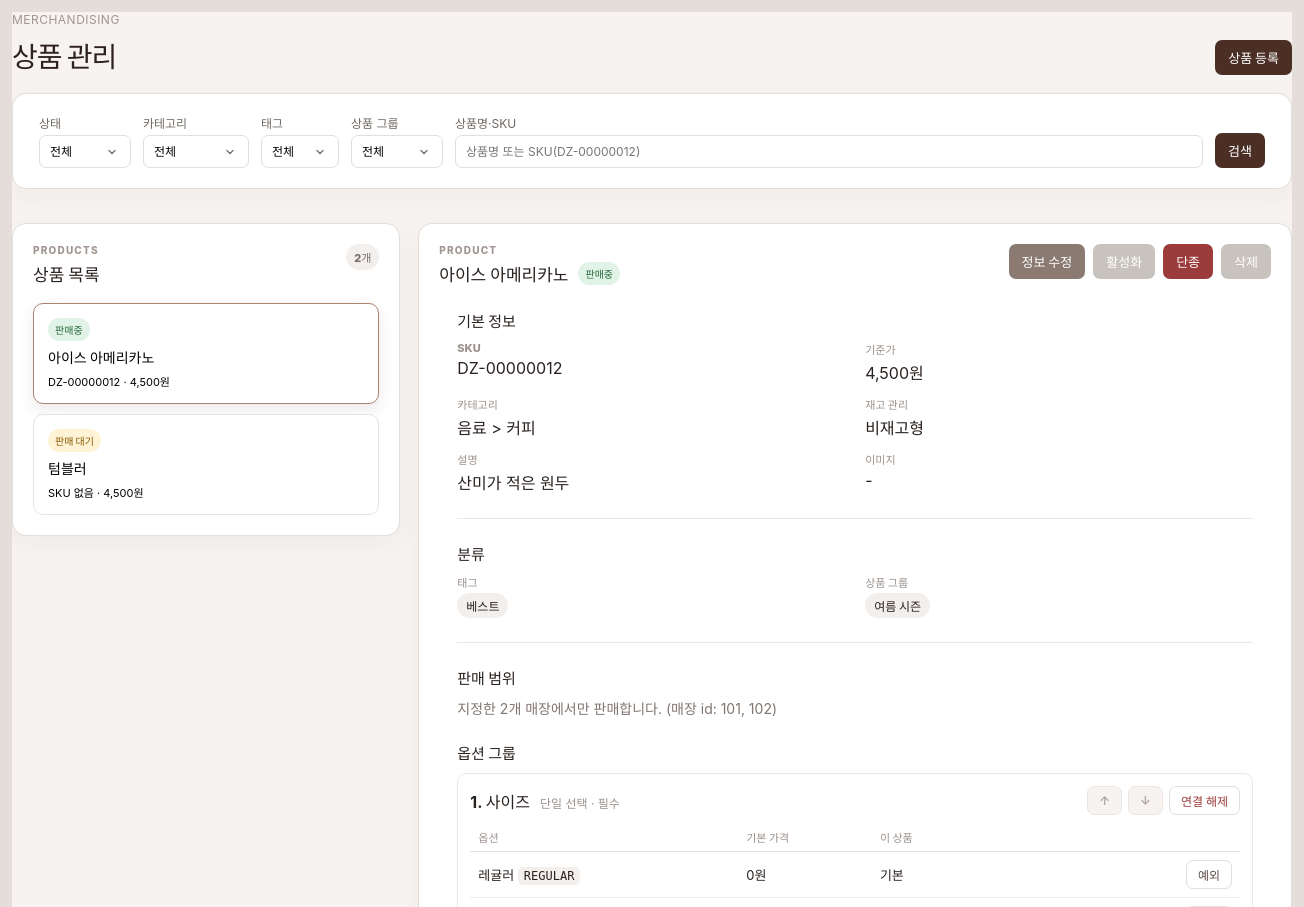
Test case: ProductsPage › 다른 상품을 선택하면 상세가 바뀌고 SKU·분류가 없는 상품도 보여준다
This screenshot has width=1304, height=907.
Click the button "판매 대기 텀블러 SKU 없음 · 4,500원": (74, 440) [33, 414, 379, 515]
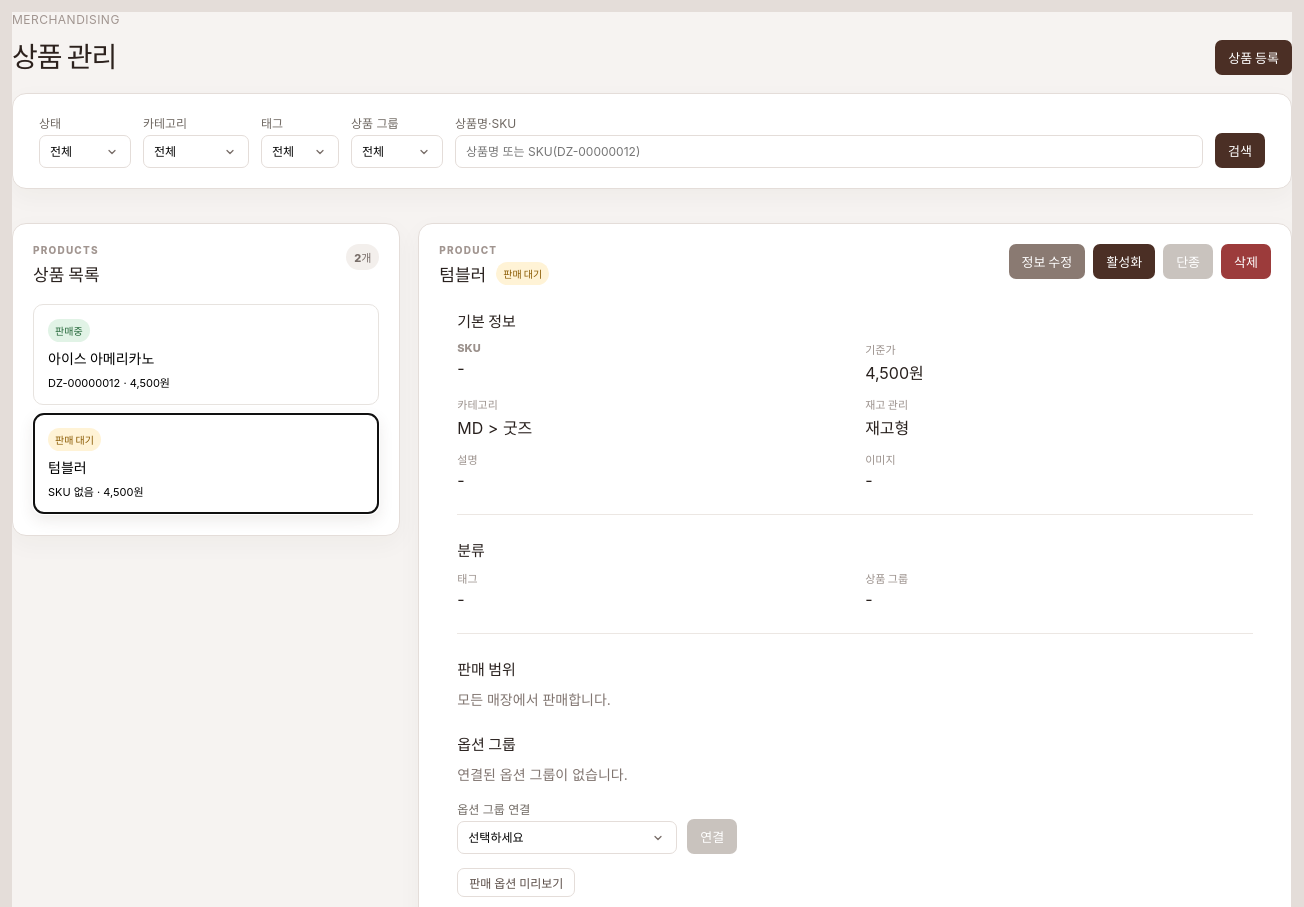
expect the text "MD > 굿즈" is shown: met, box [457, 418, 532, 438]
expect the text "모든 매장에서 판매합니다." is shown: met, box [457, 691, 611, 708]
expect the text "연결된 옵션 그룹이 없습니다." is shown: met, box [457, 766, 628, 783]
